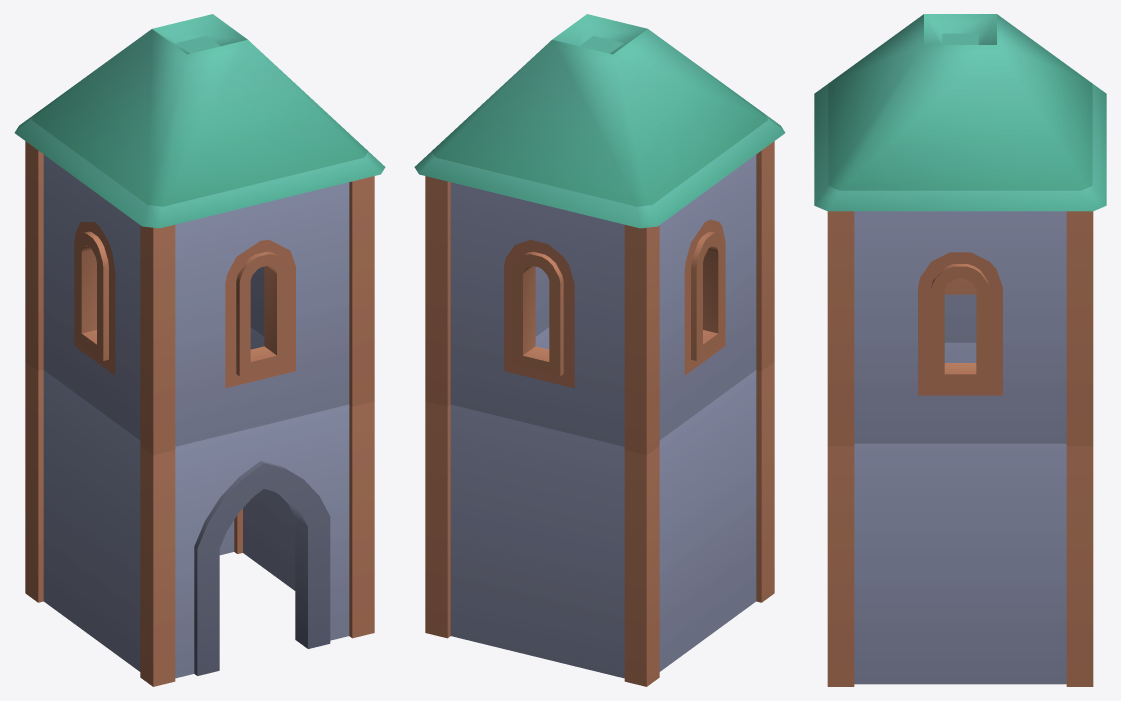
File: elf_c.glb
3 views of the same model, side by side, from view 1: azimuth 30°, elevation 25°; view 2: azimuth 150°, elevation 25°; view 3: azimuth 270°, elevation 25° (orthographic). The views are drawn at different scales.
Parts seen in each view (by area): view 1: wall-doorway-round; view 2: wall-doorway-round; view 3: wall-doorway-round.
Boxes of the visible parts, bbox=[...] form: wall-doorway-round: bbox=[14, 14, 385, 686]; wall-doorway-round: bbox=[414, 14, 785, 686]; wall-doorway-round: bbox=[814, 14, 1106, 686].
Size of the model in its own units: 1.1 by 2.5 by 1.1.
Materials: 1 (1 with a texture image).
